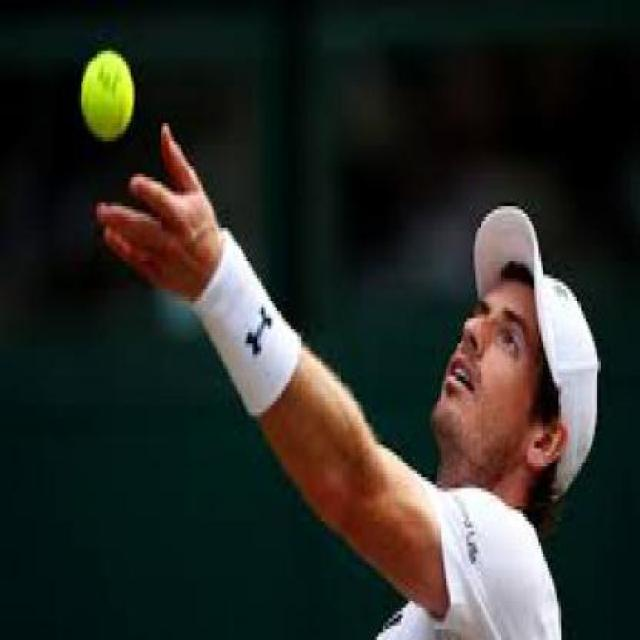Tennis_Ball: (77, 57, 132, 140)
